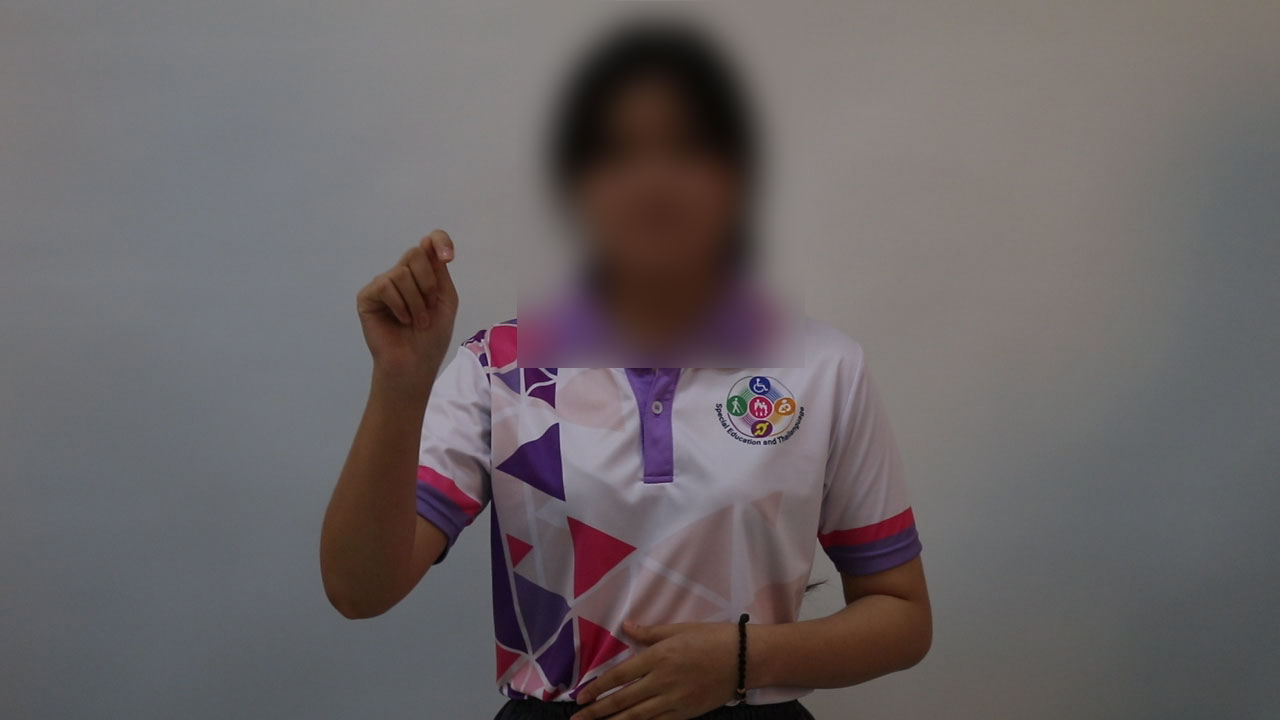tor: (343, 216, 498, 402)
